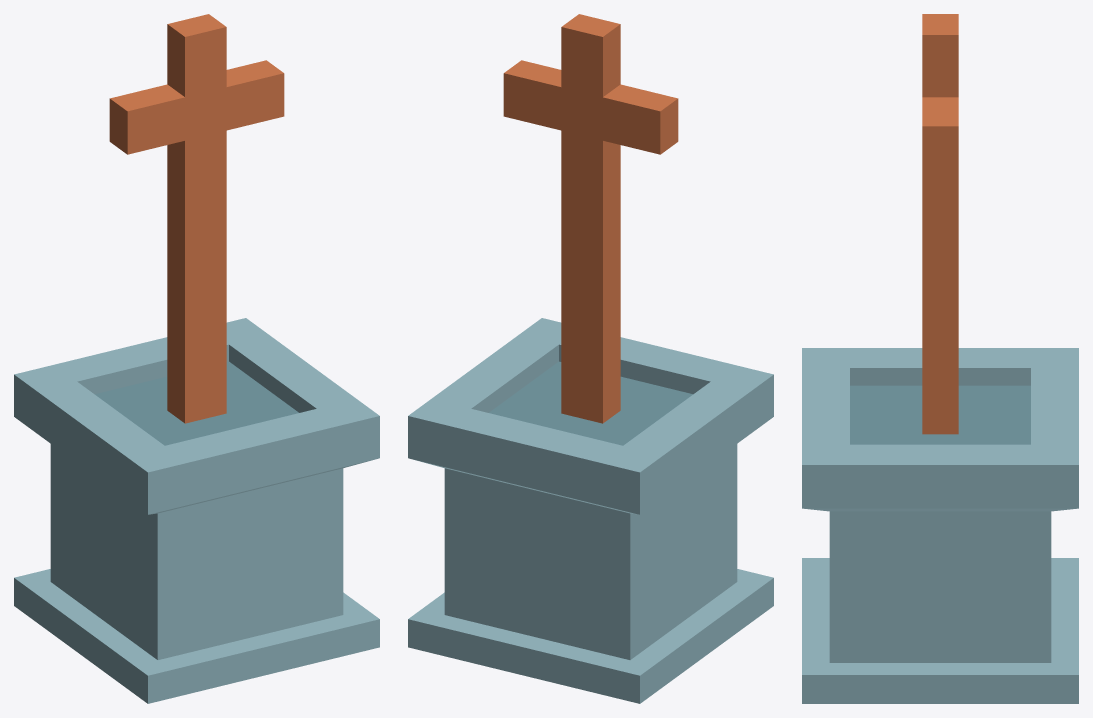
File: crossWood.fbx
3 views of the same model, side by side, from view 1: azimuth 30°, elevation 25°; view 2: azimuth 150°, elevation 25°; view 3: azimuth 270°, elevation 25° (orthographic). The views are drawn at different scales.
Visible parts, largest first — view 1: crossWood; view 2: crossWood; view 3: crossWood.
Part boxes in pixels (<box>): crossWood: <box>14,14,379,703</box>; crossWood: <box>408,14,773,703</box>; crossWood: <box>802,14,1078,703</box>.
Size of the model in its own units: 4.3 by 10.65 by 4.3.
